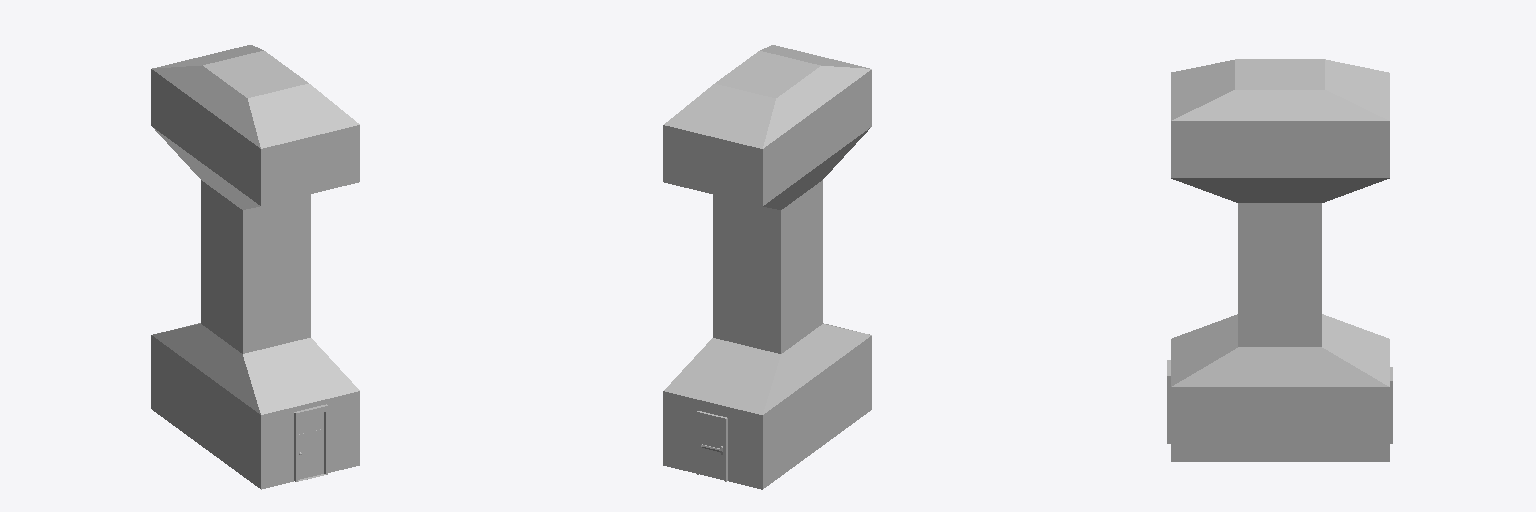
Rendered from Gym.obj.
3 renders of one model, left to right at view 1: azimuth 30°, elevation 25°; view 2: azimuth 150°, elevation 25°; view 3: azimuth 270°, elevation 25°, orthographic.
Parts seen in each view (by area): view 1: Gym Buildings, Gym Buildings Frame Shop_Door4, Gym Buildings Shop_Door4 Glass; view 2: Gym Buildings, Gym Buildings pCube12 Fire_Exit3; view 3: Gym Buildings.
Boxes of the visible parts, <box> form: Gym Buildings: <box>151,45,359,489</box>; Gym Buildings Frame Shop_Door4: <box>294,404,327,481</box>; Gym Buildings Shop_Door4 Glass: <box>298,415,320,450</box>; Gym Buildings: <box>663,45,871,489</box>; Gym Buildings pCube12 Fire_Exit3: <box>697,411,727,481</box>; Gym Buildings: <box>1171,59,1389,461</box>.
Size of the model in its own units: 23.89 by 83.48 by 47.24.